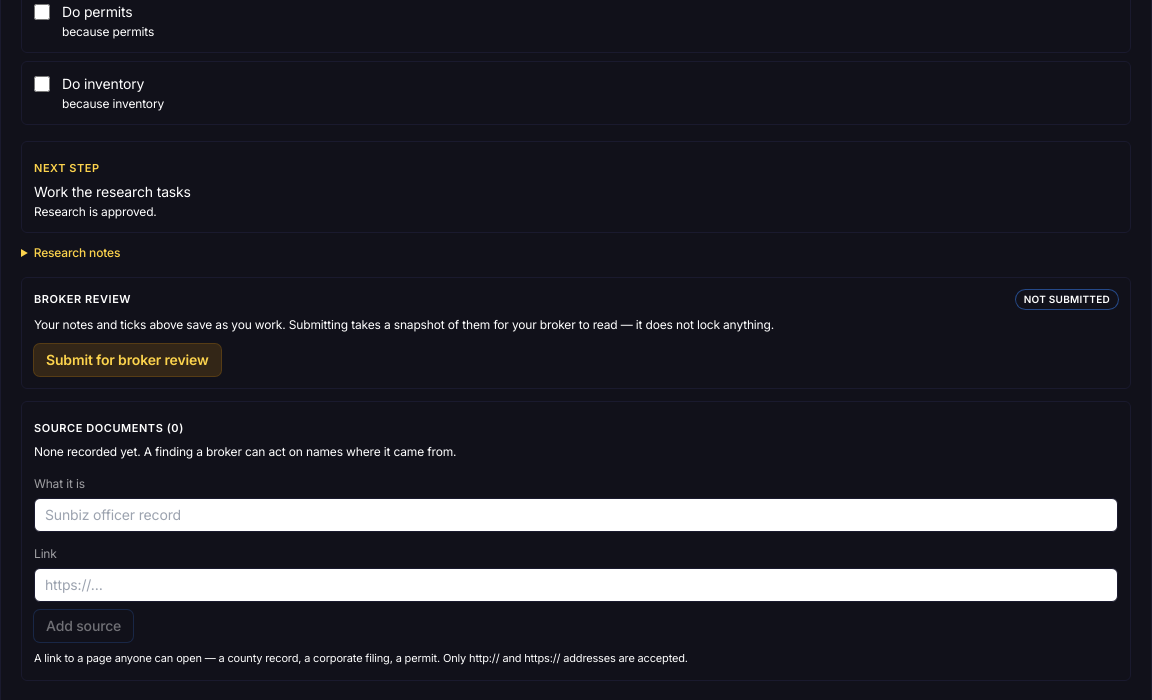
Test case: [P12A-AP-2] submitting › [CRITICAL] a refusal shows the server's own reason and the state that exists
(page scrolled)
Expected: the element with test id "submission" is shown, [21,276,1131,389]
Step 1. Click the button with test id "submit-research" → click(127, 360), box [34,344,220,376]
(page scrolled)
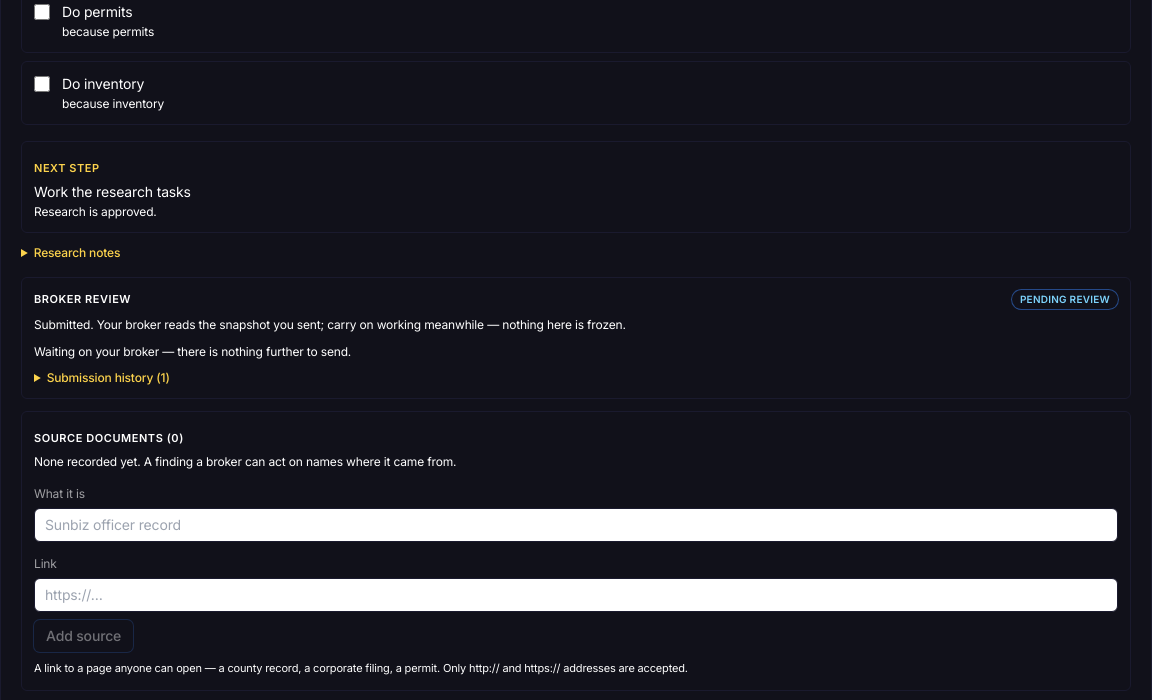
Expected: the text "PENDING REVIEW" is shown, [1012,290,1118,308]
